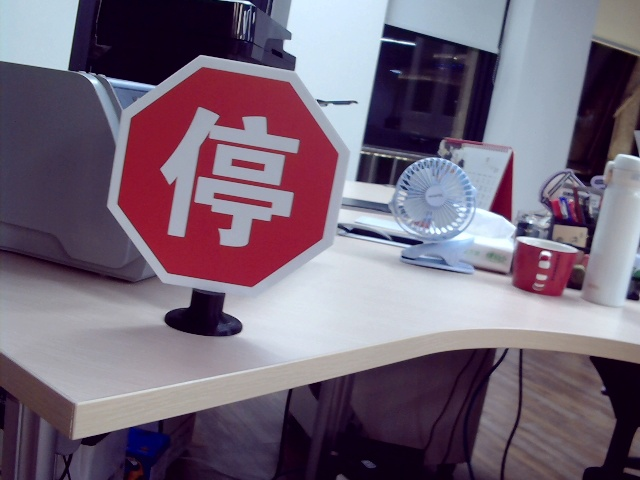stop: (163, 101, 297, 249)
